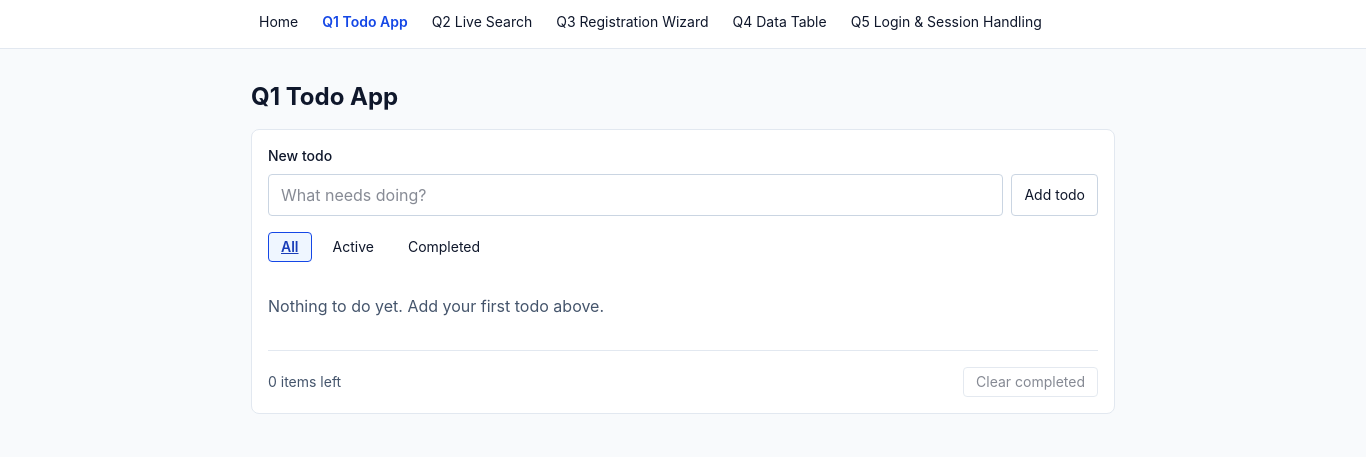
Test case: todo page: managing todos › hides the blank title message once the title is changed
The image size is (1366, 457).
Type "Buy milk" into the field labelled "New todo".
click(636, 195); type("Buy milk")  # box [268,174,1004,216]
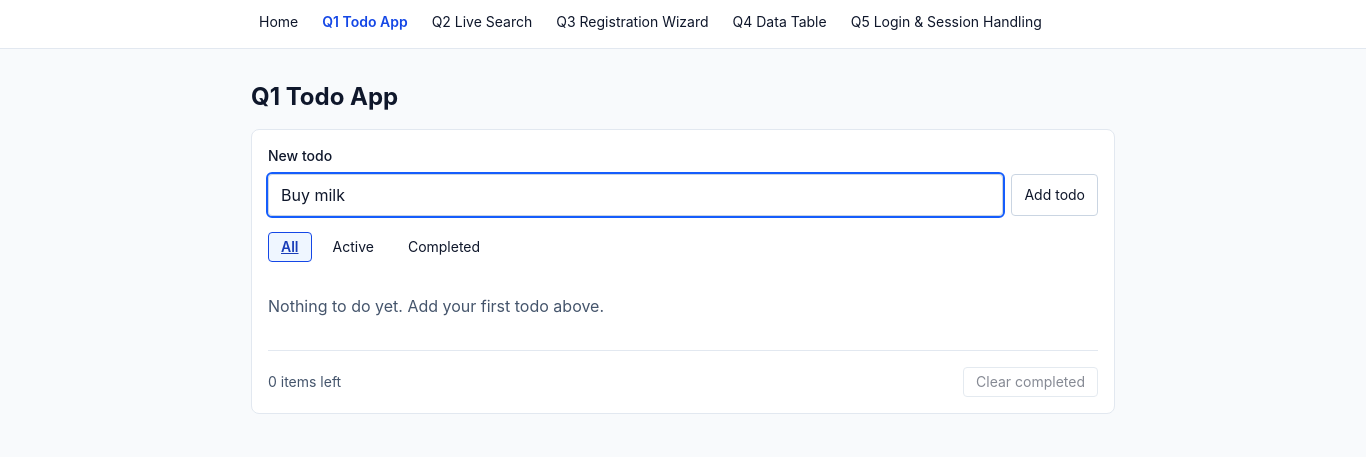
Click the button "Add todo".
click(1055, 195)  # box [1012,174,1098,216]
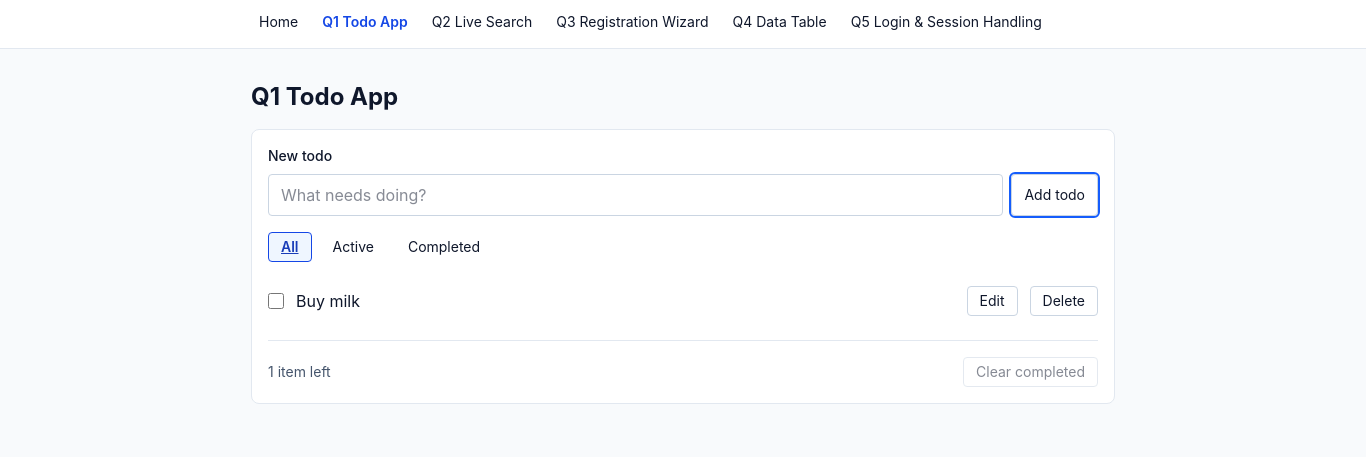
Click the button with aria-label "Edit Buy milk".
click(992, 301)  # box [967,286,1018,316]
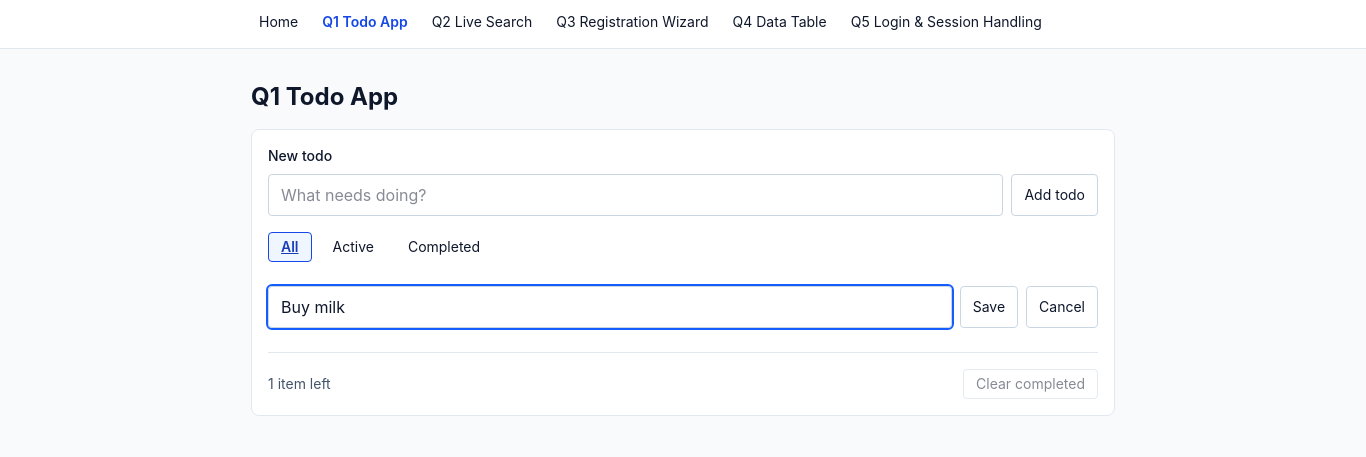
Clear the field named "New title for Buy milk" at [610, 307], box [268,286,952,328]
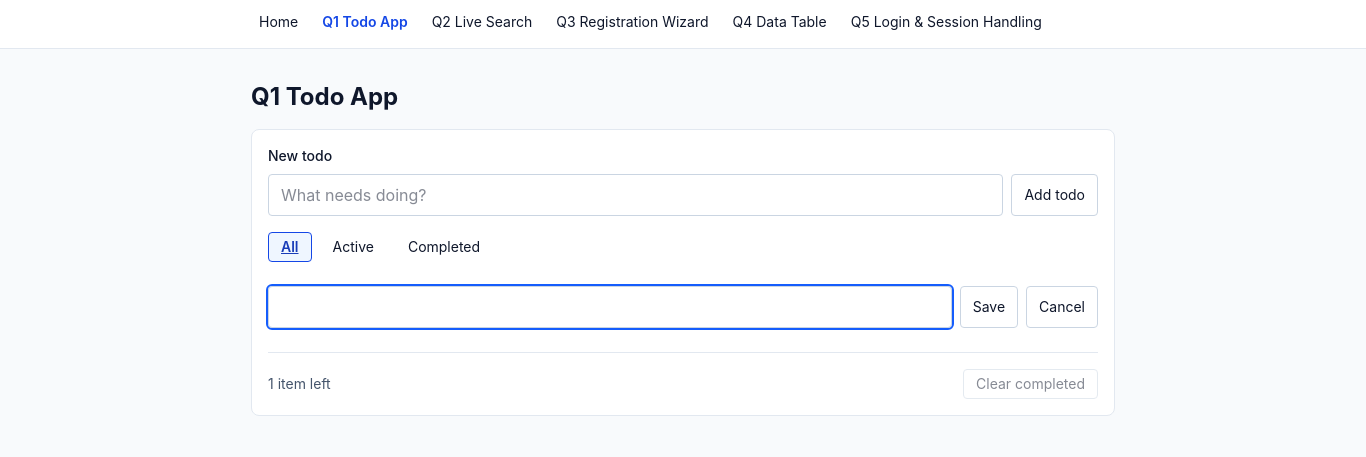
Click the button "Save".
click(989, 307)  # box [960,286,1018,328]
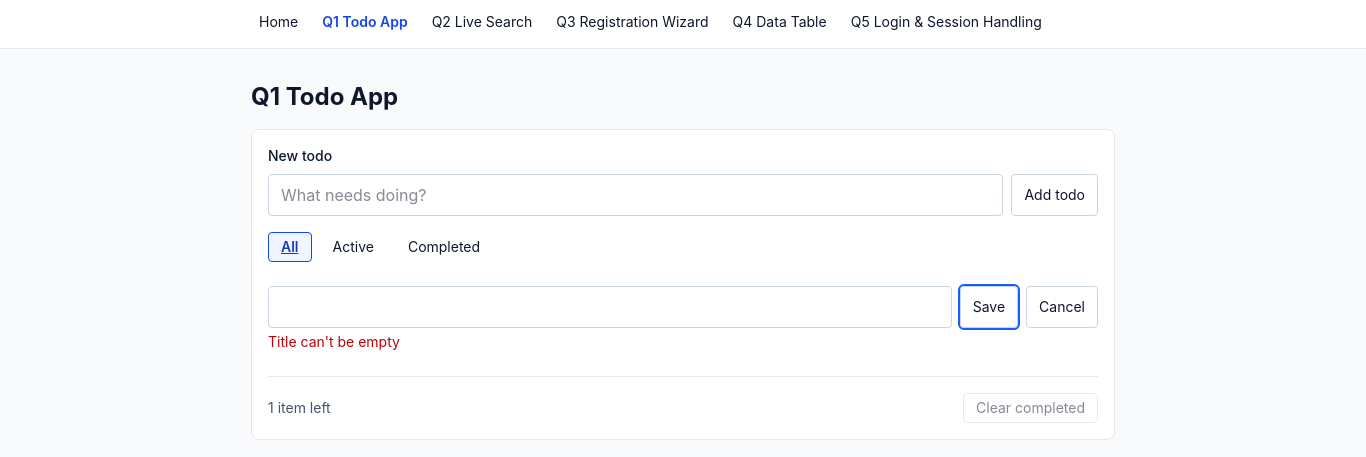
Type "B" into the field named "New title for Buy milk".
click(610, 307); type("B")  # box [268,286,952,328]
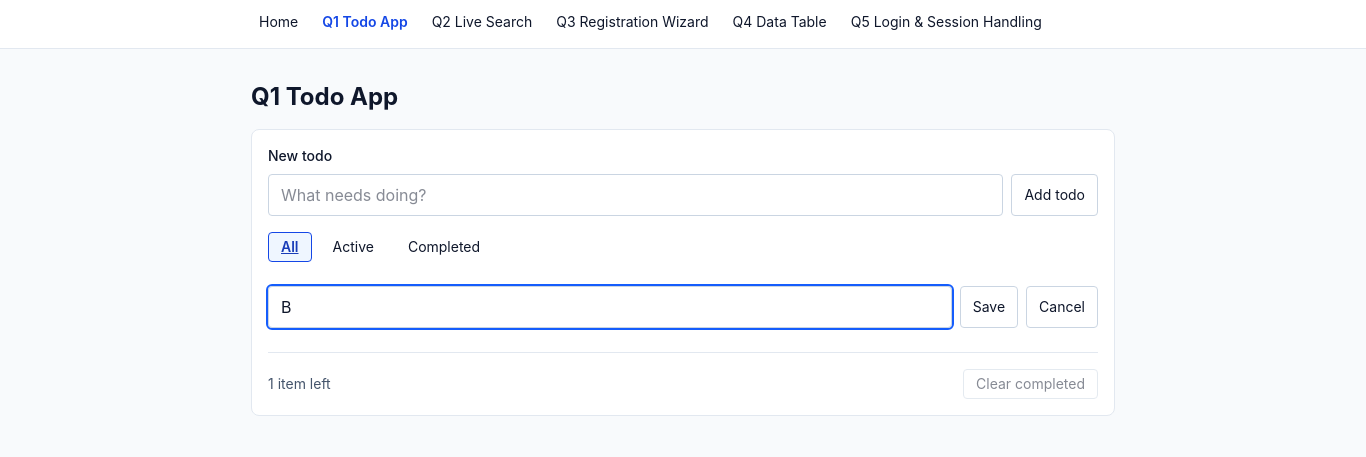
Check: the text "Title can't be empty" is gone
